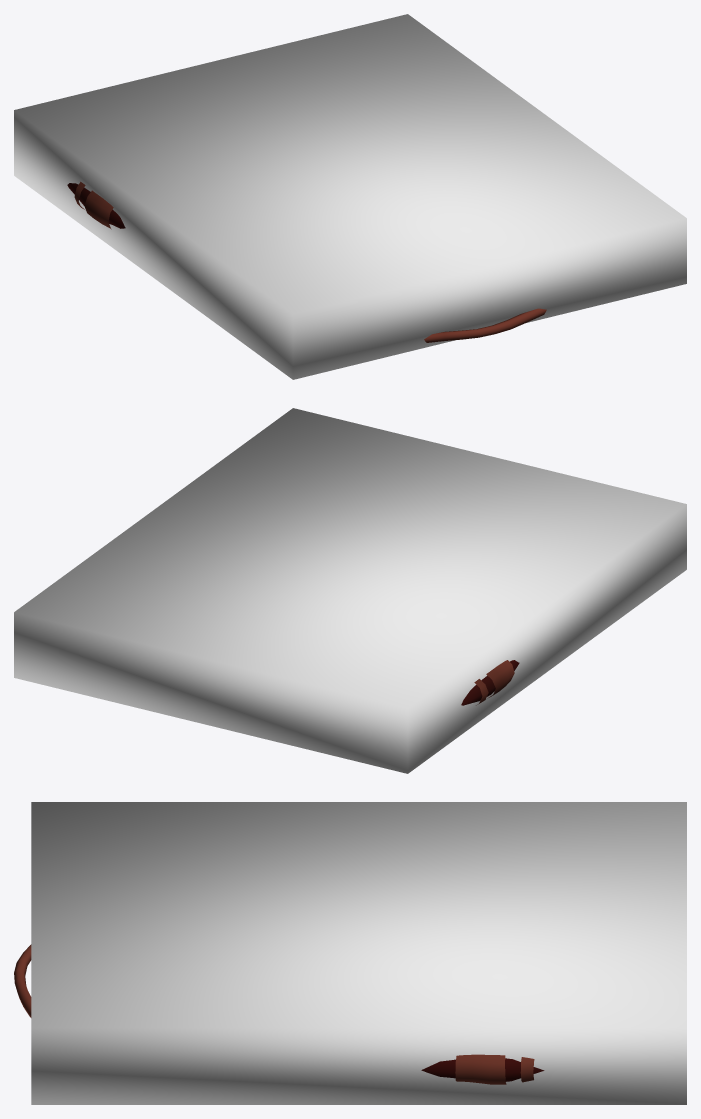
File: manoplas.glb
The picture shows the model from 3 angles, top to bottom: view 1: azimuth 30°, elevation 25°; view 2: azimuth 150°, elevation 25°; view 3: azimuth 270°, elevation 25°; orthographic projection. The views are drawn at different scales.
Visible parts, largest first — view 1: manoplas-colcaja, manoplas; view 2: manoplas-colcaja, manoplas; view 3: manoplas-colcaja, manoplas.
Boxes of the visible parts, x1=… form: manoplas-colcaja: x1=14, y1=14, x2=686, y2=379; manoplas: x1=67, y1=181, x2=546, y2=342; manoplas-colcaja: x1=14, y1=408, x2=686, y2=773; manoplas: x1=461, y1=660, x2=519, y2=705; manoplas-colcaja: x1=31, y1=802, x2=686, y2=1104; manoplas: x1=14, y1=944, x2=544, y2=1084.
Bounding box in the file's own units: 0.2293 × 0.0365 × 0.2771.
